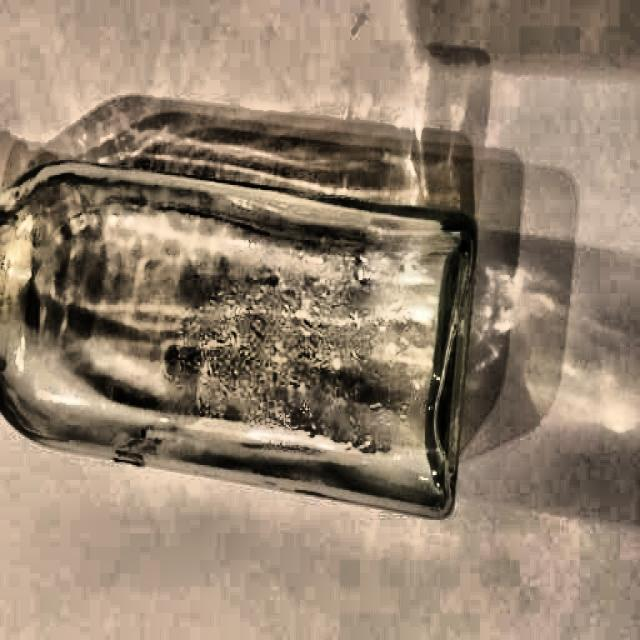glass: (0, 155, 474, 528)
